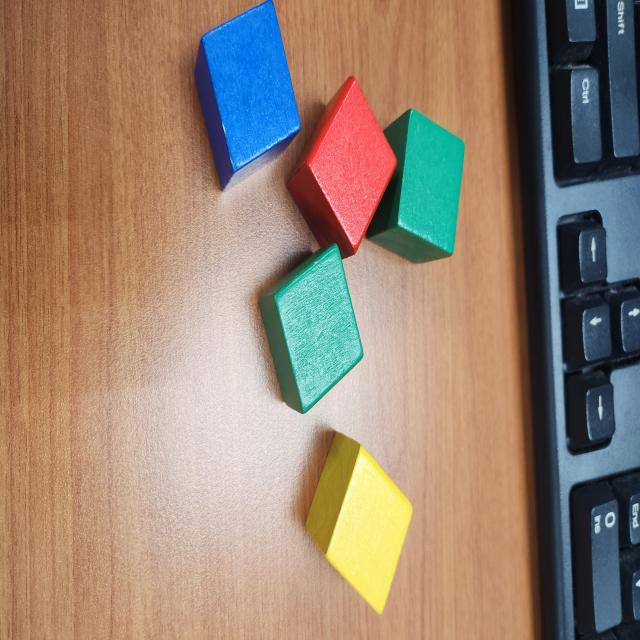blue: (194, 0, 302, 194)
green: (257, 241, 367, 415), (366, 104, 466, 265)
red: (285, 75, 401, 258)
yellow: (303, 430, 414, 616)
